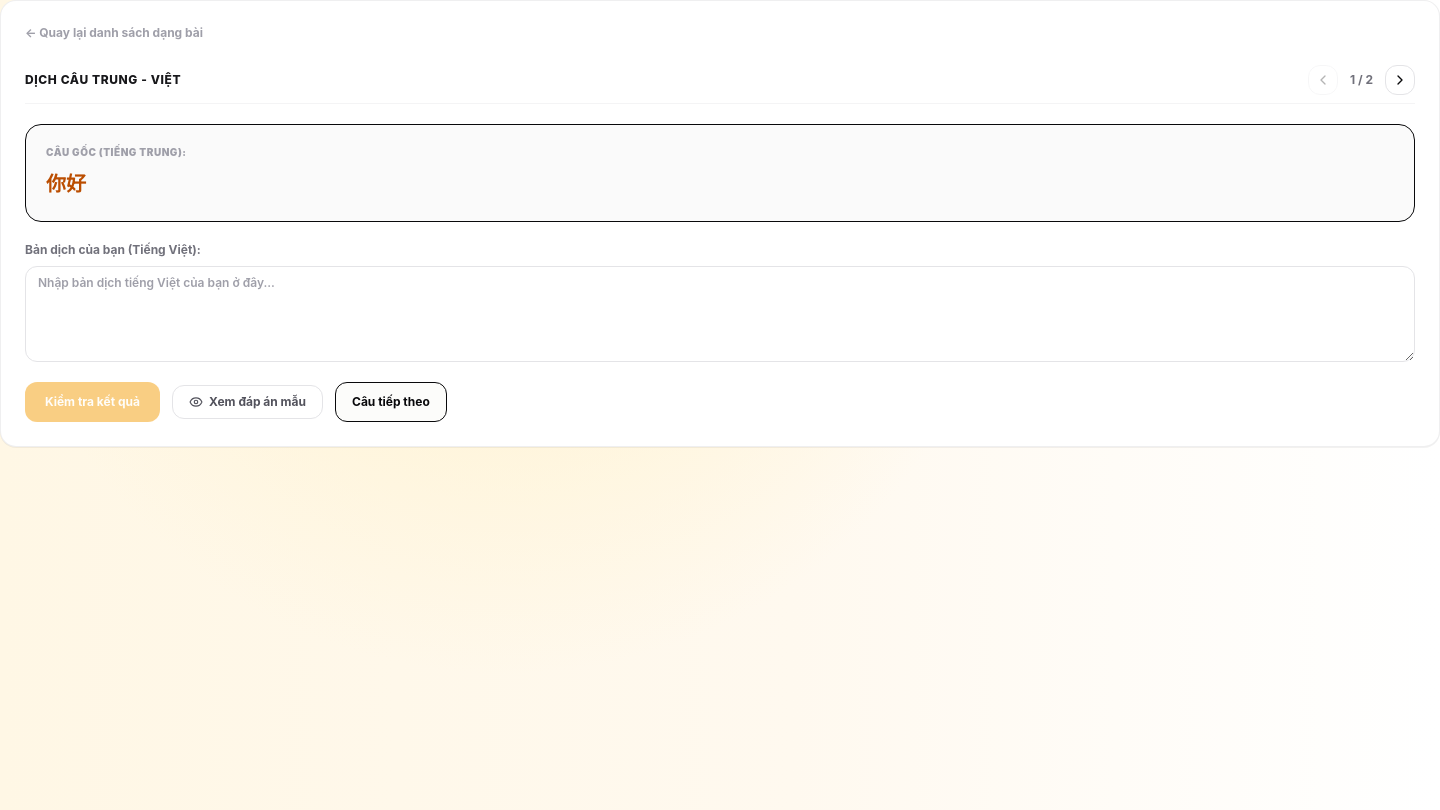
BilingualExercise — trans_zh_vi mode › shows evaluation after checking translation
The width and height of the screenshot is (1440, 810).
Step 1. Type "Xin chào" into the text box with placeholder "Nhập bản dịch tiếng Việt của bạn ở đây..." → (720, 314), box [25,266,1415,362]
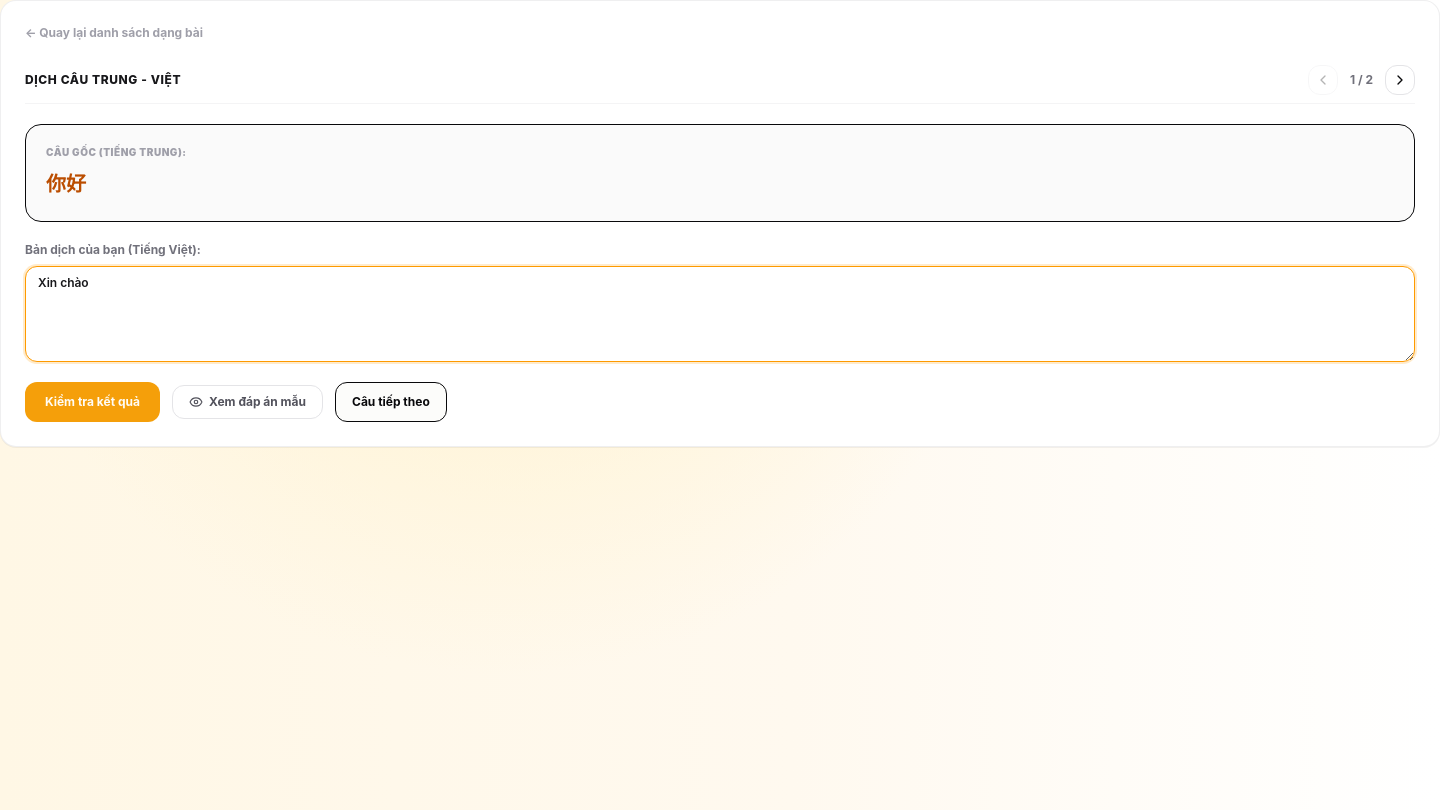
Step 2. Click the button "Kiểm tra kết quả" → (92, 402), box [25,382,160,422]
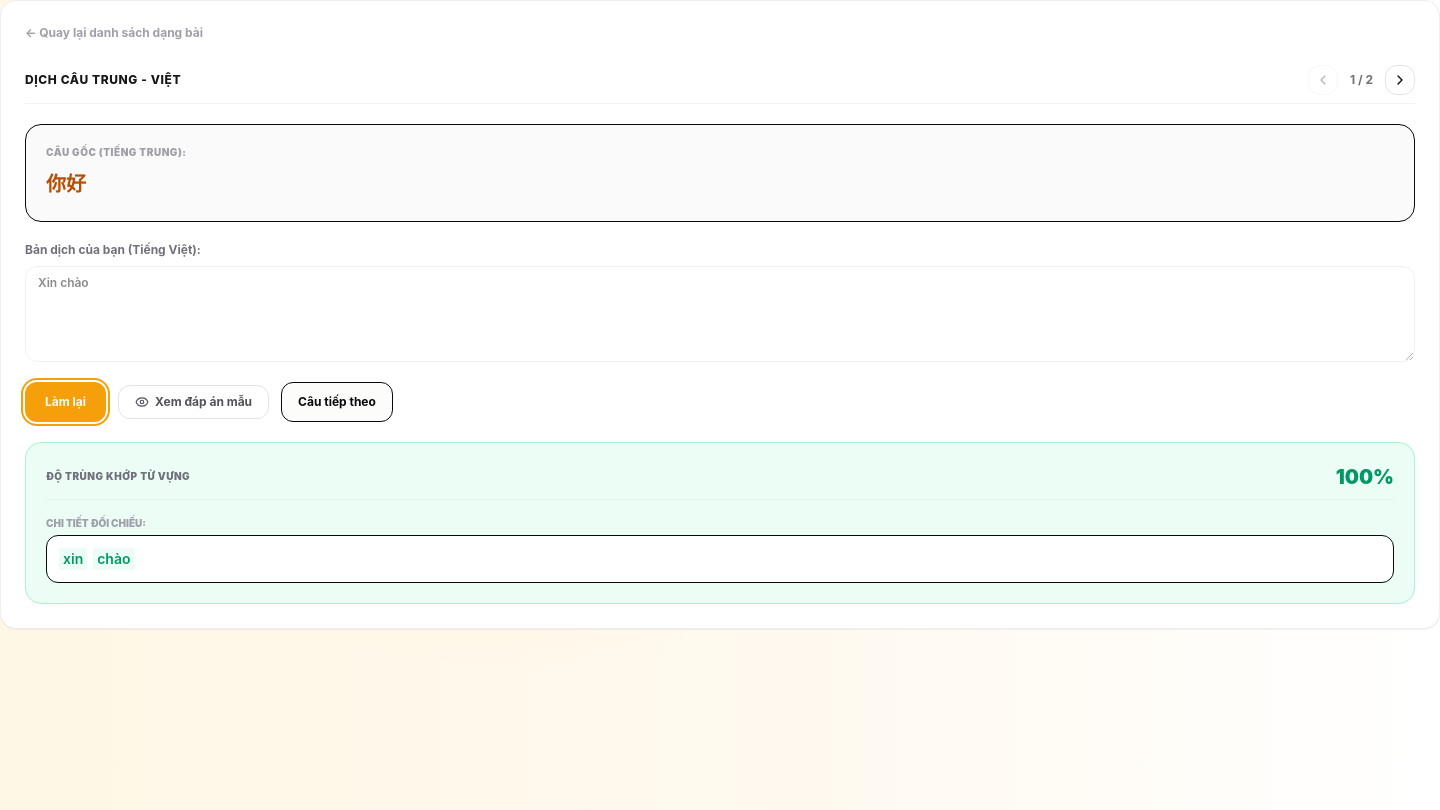
expect the text "Độ trùng khớp từ vựng" is shown: met, box [46,469,190,484]
expect the text "100%" is shown: met, box [1336,462,1394,490]
